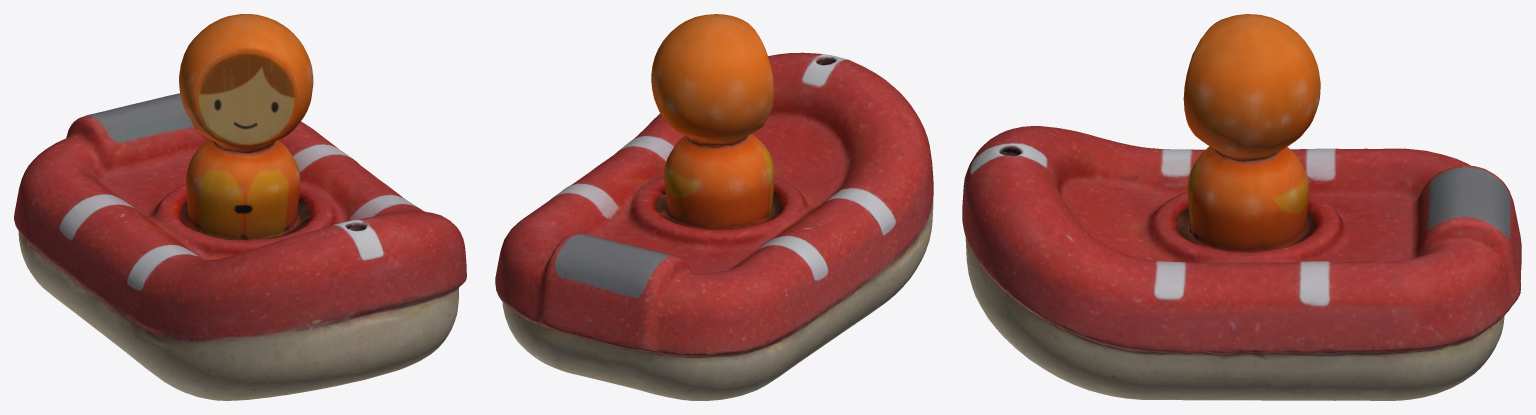
Rendered from COAST_GUARD_BOAT.glb.
3 views of the same model, side by side, from view 1: azimuth 30°, elevation 25°; view 2: azimuth 150°, elevation 25°; view 3: azimuth 270°, elevation 25° (orthographic). The views are drawn at different scales.
Visible parts, largest first — view 1: COAST_GUARD_BOAT; view 2: COAST_GUARD_BOAT; view 3: COAST_GUARD_BOAT.
Part boxes in pixels (x1=…): COAST_GUARD_BOAT: x1=14, y1=14, x2=466, y2=400; COAST_GUARD_BOAT: x1=495, y1=14, x2=933, y2=400; COAST_GUARD_BOAT: x1=962, y1=14, x2=1521, y2=400.
Size of the model in its own units: 0.0758 by 0.0759 by 0.1162.
Materials: 1 (1 with a texture image).
